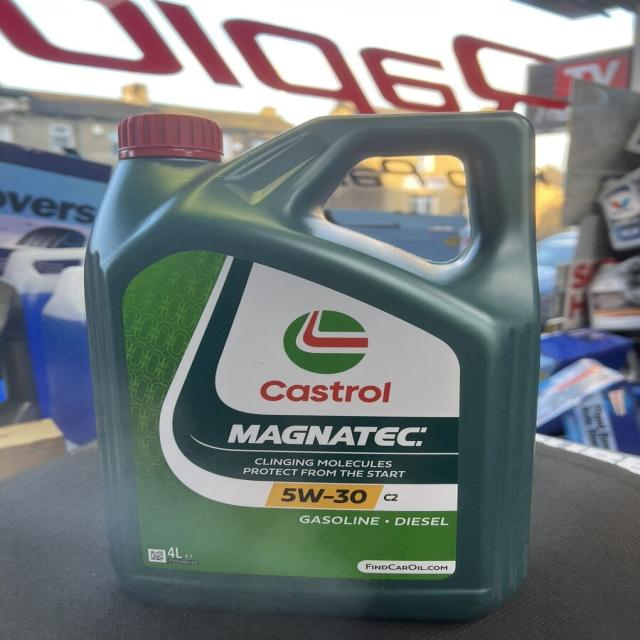motor_oil: (87, 101, 540, 612)
